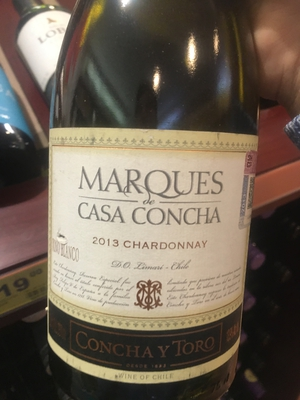marques de casa concha chardonnay: (41, 1, 267, 400)
